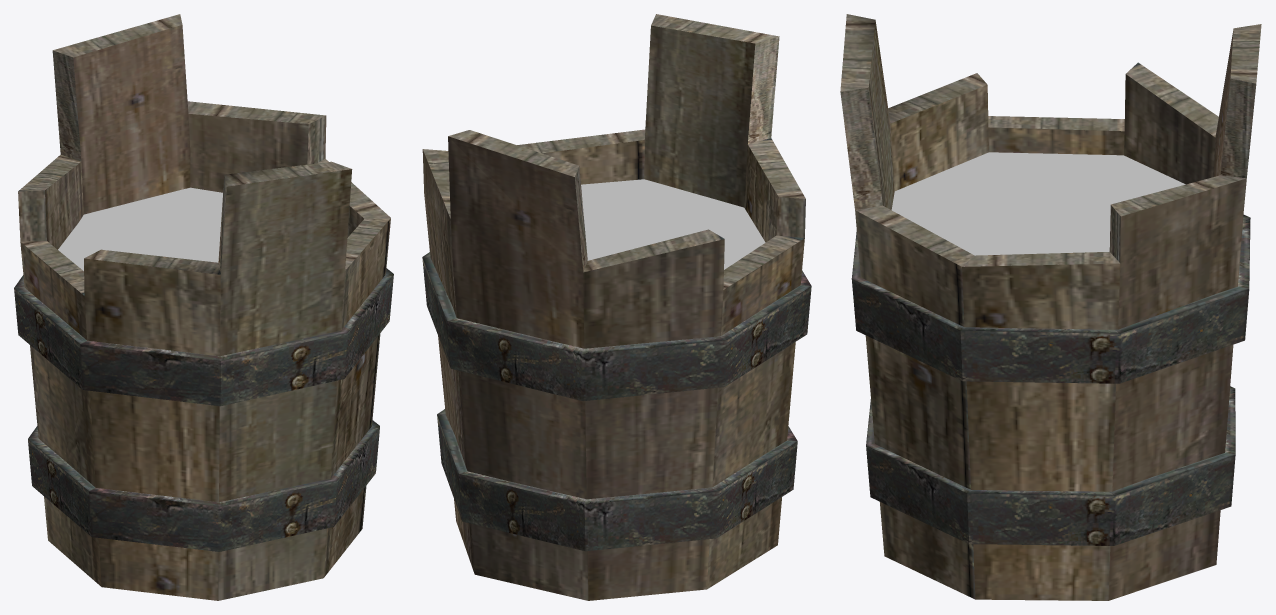
The model's file is bg_anh_etc_pot02_sm_ljd.FBX.
3 views of the same model, side by side, from view 1: azimuth 30°, elevation 25°; view 2: azimuth 150°, elevation 25°; view 3: azimuth 270°, elevation 25° (orthographic). The views are drawn at different scales.
Visible parts, largest first — view 1: bg_anh_etc_pot02_sm_ljd; view 2: bg_anh_etc_pot02_sm_ljd; view 3: bg_anh_etc_pot02_sm_ljd.
Part boxes in pixels (x1,y1,x2,y2): bg_anh_etc_pot02_sm_ljd: (14, 14, 393, 600); bg_anh_etc_pot02_sm_ljd: (422, 14, 811, 600); bg_anh_etc_pot02_sm_ljd: (840, 14, 1261, 600).
Size of the model in its own units: 31.12 by 41.59 by 32.7.
